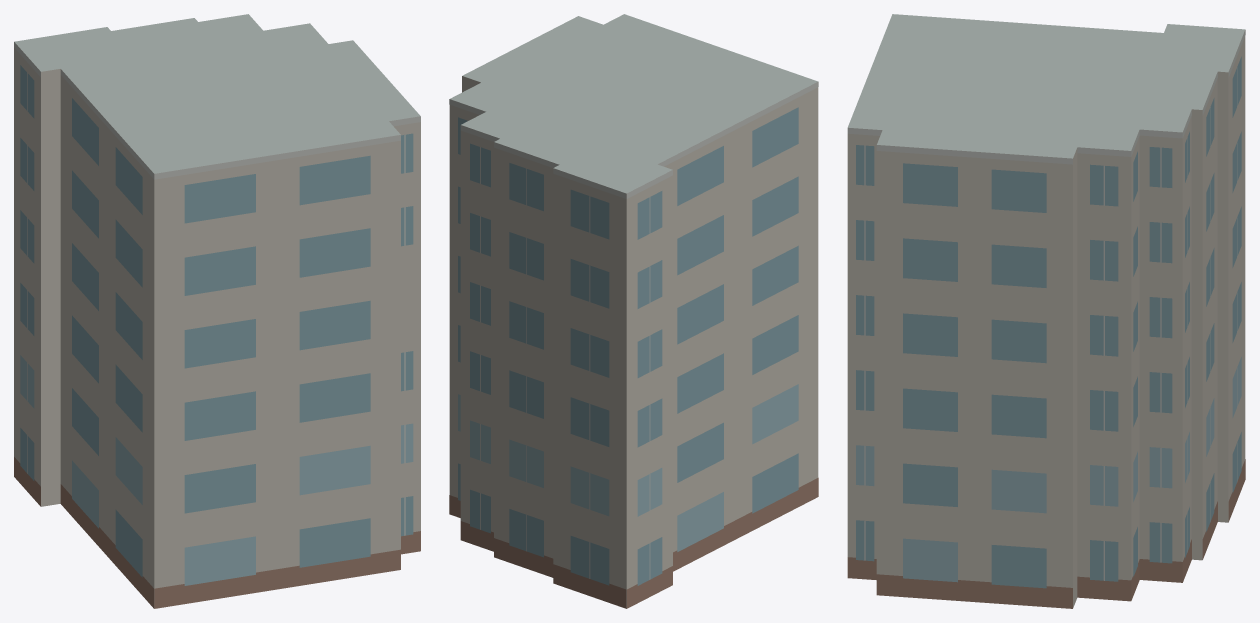
The model's file is survey-upis-32678270.glb.
The picture shows the model from 3 angles, left to right: view 1: azimuth 30°, elevation 25°; view 2: azimuth 150°, elevation 25°; view 3: azimuth 270°, elevation 25°; orthographic projection. The views are drawn at different scales.
Visible parts, largest first — view 1: survey-upis-32678270.tmp; view 2: survey-upis-32678270.tmp; view 3: survey-upis-32678270.tmp.
Boxes of the visible parts, x1,y1,x2,y2 form: survey-upis-32678270.tmp: (14, 14, 420, 608); survey-upis-32678270.tmp: (449, 14, 818, 608); survey-upis-32678270.tmp: (847, 14, 1245, 608).
Bounding box in the file's own units: 12.61 × 18.3 × 14.66.
